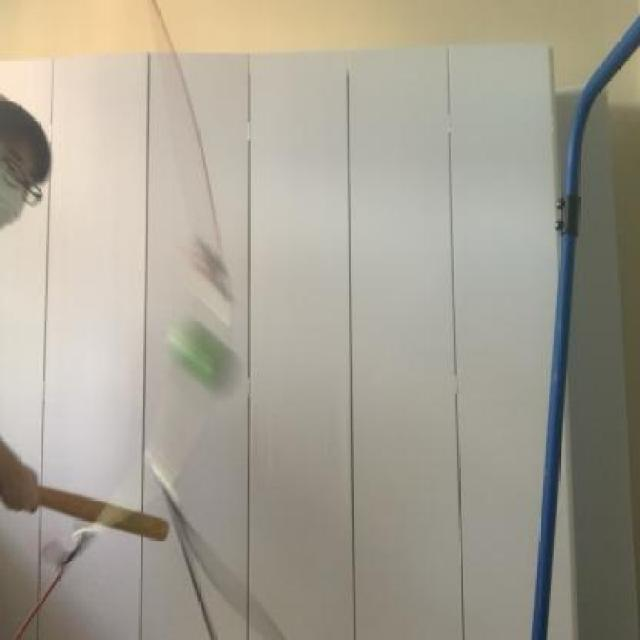baseball: (156, 310, 247, 404)
